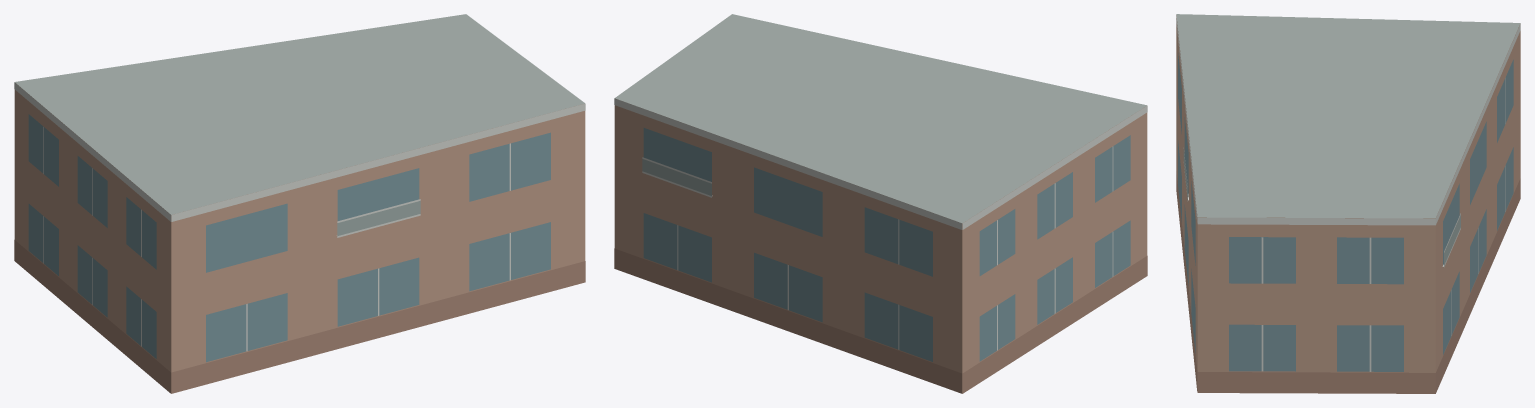
The model's file is survey-upis-32582724.glb.
3 renders of one model, left to right at view 1: azimuth 30°, elevation 25°; view 2: azimuth 150°, elevation 25°; view 3: azimuth 270°, elevation 25°, orthographic. The views are drawn at different scales.
Parts seen in each view (by area): view 1: survey-upis-32582724.tmp; view 2: survey-upis-32582724.tmp; view 3: survey-upis-32582724.tmp.
Part boxes in pixels (x1,y1,x2,y2): survey-upis-32582724.tmp: (14,14,585,393); survey-upis-32582724.tmp: (614,14,1147,393); survey-upis-32582724.tmp: (1176,14,1520,393).
Size of the model in its own units: 15.25 by 6.1 by 10.86.
